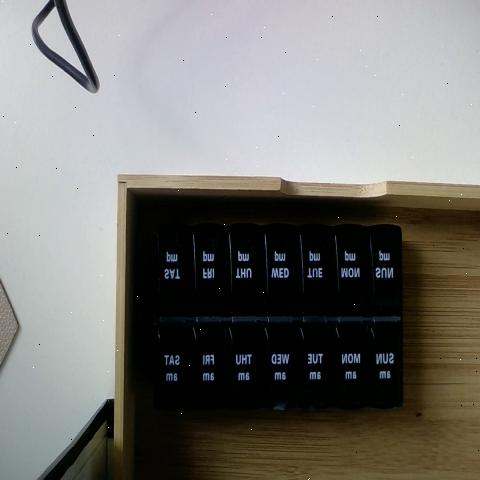FRI-am: (194, 313, 229, 401)
FRI-pm: (195, 228, 230, 313)
MON-am: (332, 312, 366, 403)
MON-pm: (334, 222, 372, 306)
SAT-am: (154, 309, 195, 398)
SAT-pm: (156, 203, 192, 295)
SUN-am: (368, 309, 403, 407)
SUN-pm: (369, 223, 405, 307)
THU-am: (231, 316, 264, 409), (302, 315, 332, 404)
THU-pm: (228, 216, 264, 312)
TUE-pm: (302, 230, 337, 312)
WED-am: (266, 314, 304, 402)
WED-pm: (264, 221, 299, 312)
